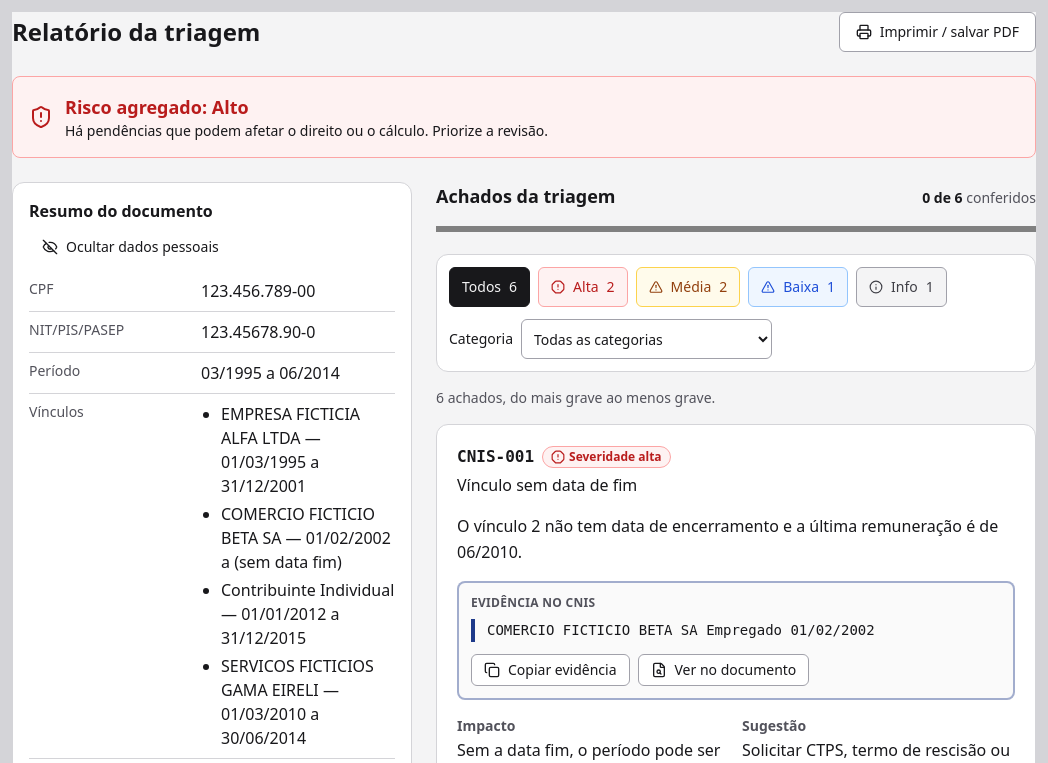
Scenario: ReportView — relatório completo › "Ocultar dados pessoais" mascara CPF/NIT no resumo e nas evidências
Click the button "Ocultar dados pessoais" at (130, 247), box [29,231,232,263]
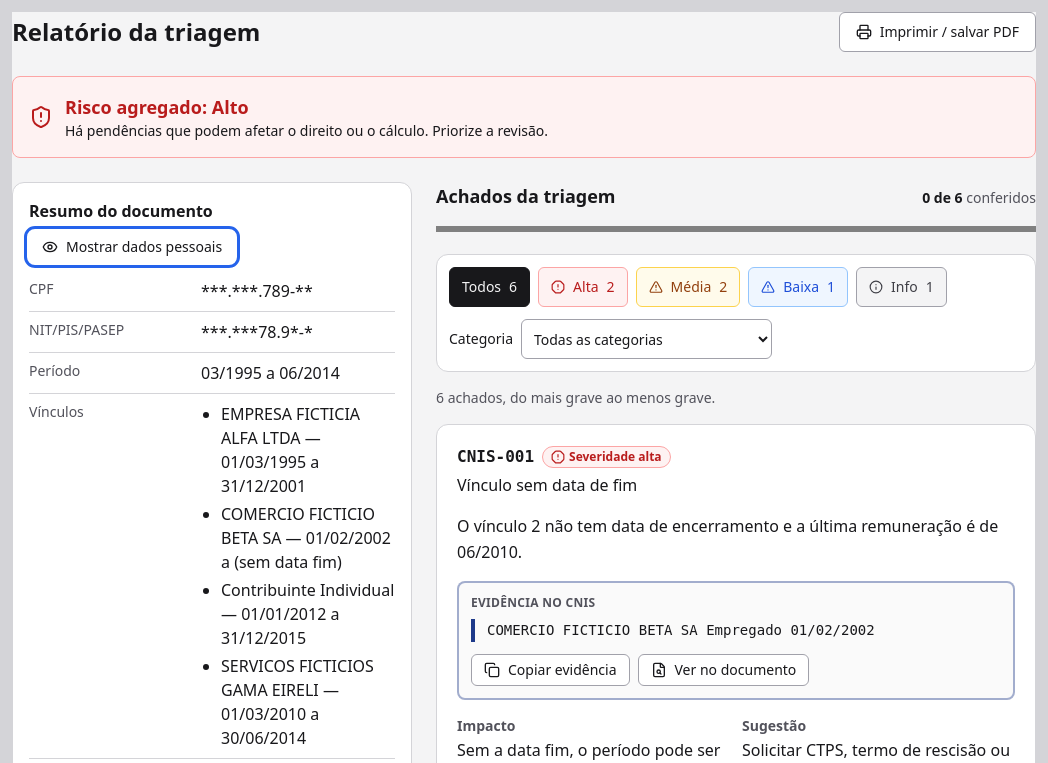
Now the text "123.456.789-00" is gone
Now the text "***.***.789-**" is shown, box [201,280,313,302]
